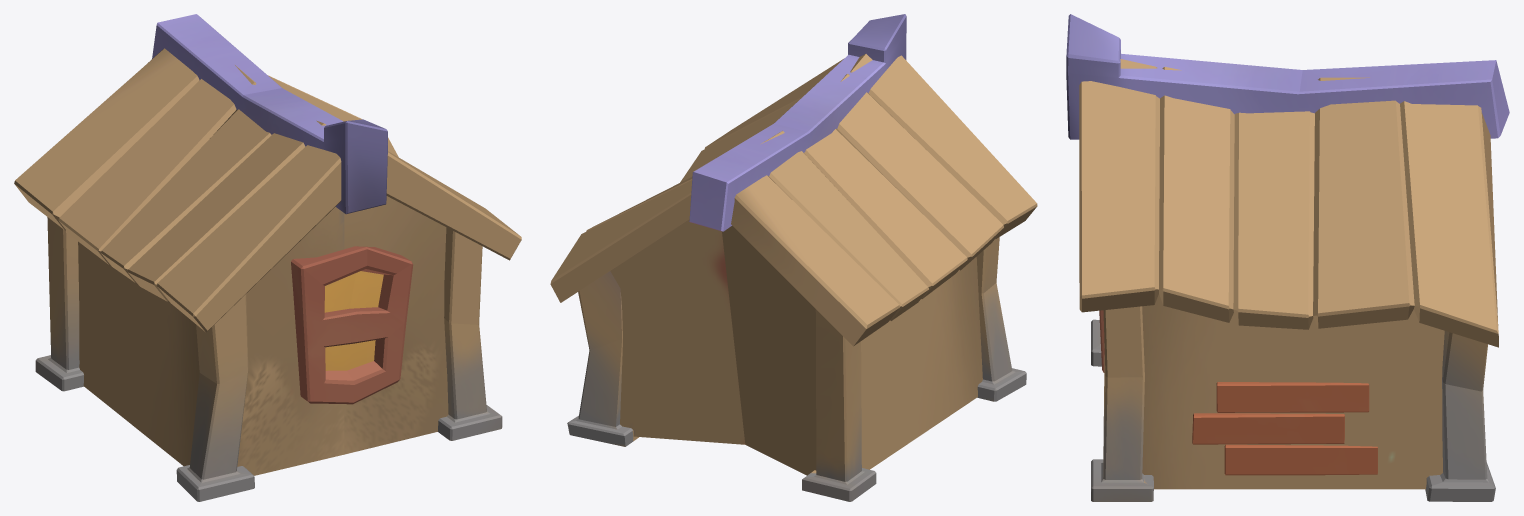
Rendered from house 1.fbx.
The picture shows the model from 3 angles, left to right: view 1: azimuth 30°, elevation 25°; view 2: azimuth 150°, elevation 25°; view 3: azimuth 270°, elevation 25°; orthographic projection. The views are drawn at different scales.
Parts seen in each view (by area): view 1: Cube.002; view 2: Cube.002; view 3: Cube.002.
Boxes of the visible parts, x1,y1,x2,y2 form: Cube.002: (14, 14, 521, 501); Cube.002: (550, 14, 1037, 501); Cube.002: (1066, 14, 1509, 501).
Size of the model in its own units: 342 by 342 by 345.
